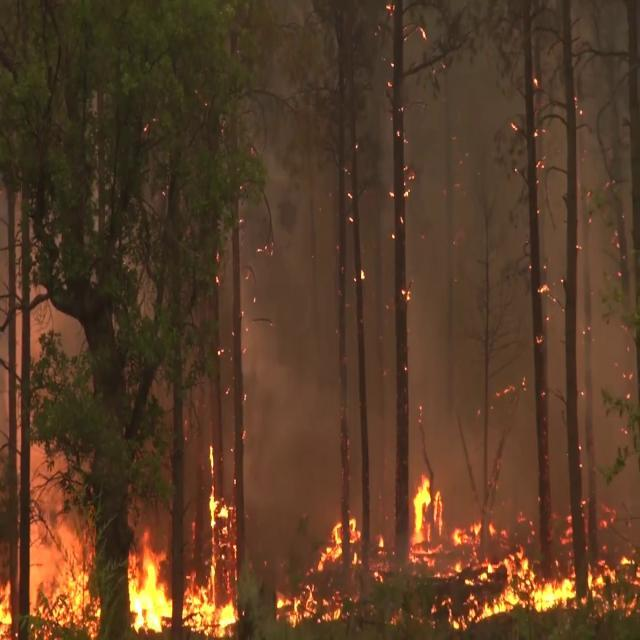Fire: (434, 520, 638, 632), (0, 438, 105, 636), (187, 438, 241, 636), (275, 512, 353, 626), (408, 466, 464, 564), (124, 538, 174, 634), (0, 573, 14, 639)
Smoke: (168, 10, 640, 488)
